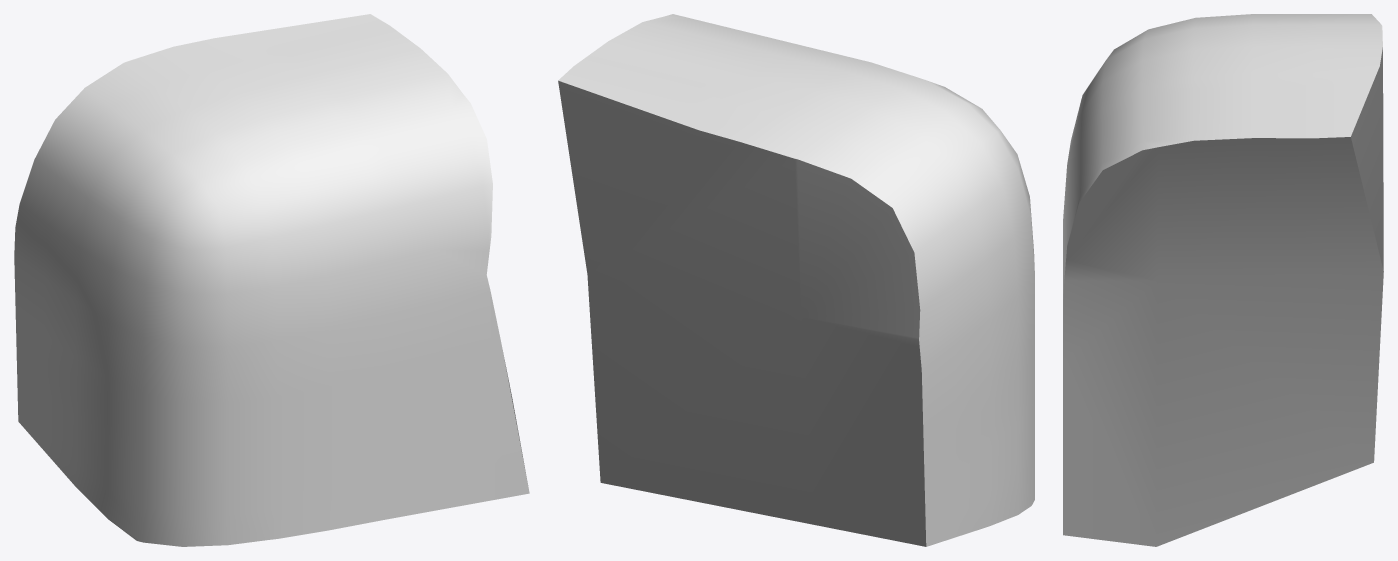
File: Happy_Box8.fbx
3 views of the same model, side by side, from view 1: azimuth 30°, elevation 25°; view 2: azimuth 150°, elevation 25°; view 3: azimuth 270°, elevation 25° (orthographic). The views are drawn at different scales.
Parts seen in each view (by area): view 1: Happy_Box8; view 2: Happy_Box8; view 3: Happy_Box8.
Boxes of the visible parts, x1,y1,x2,y2 form: Happy_Box8: (14,14,529,546); Happy_Box8: (558,14,1034,546); Happy_Box8: (1063,14,1383,546).
Size of the model in its own units: 28.4 by 29.56 by 21.4.
2 materials, 1 textured.
